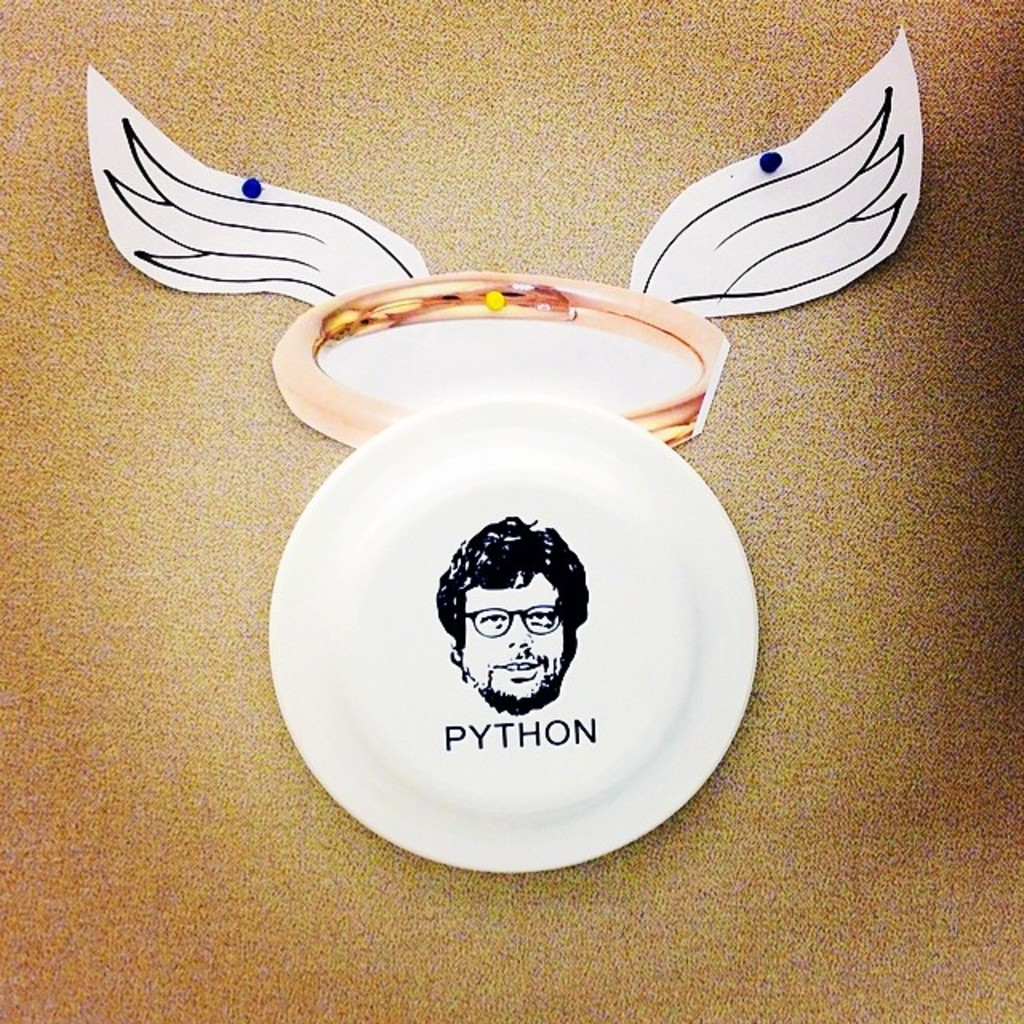plate: (270, 406, 750, 868)
